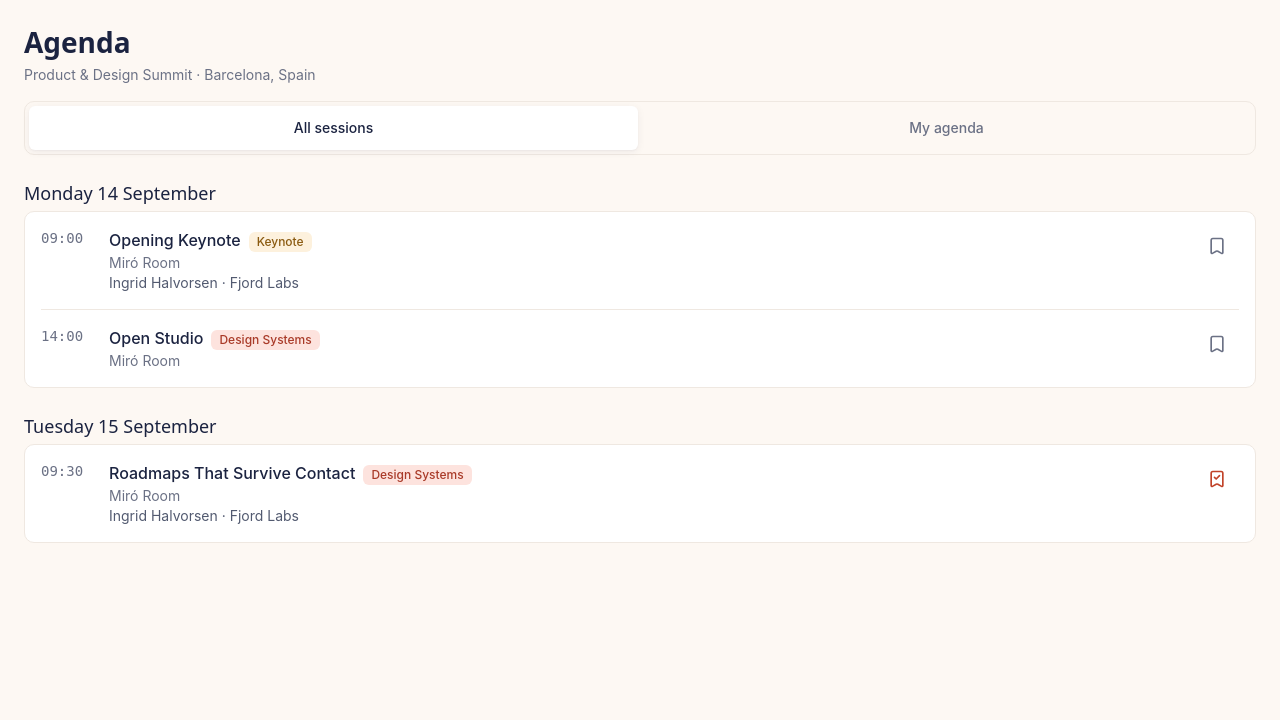
Test: the Agenda filter › drops a venue day entirely when nothing in it is saved
expect the link "Opening Keynote" is shown: met, box [109,230,241,250]
Step 1. Click the radio button labelled "My agenda" → (946, 128), box [909,119,984,136]
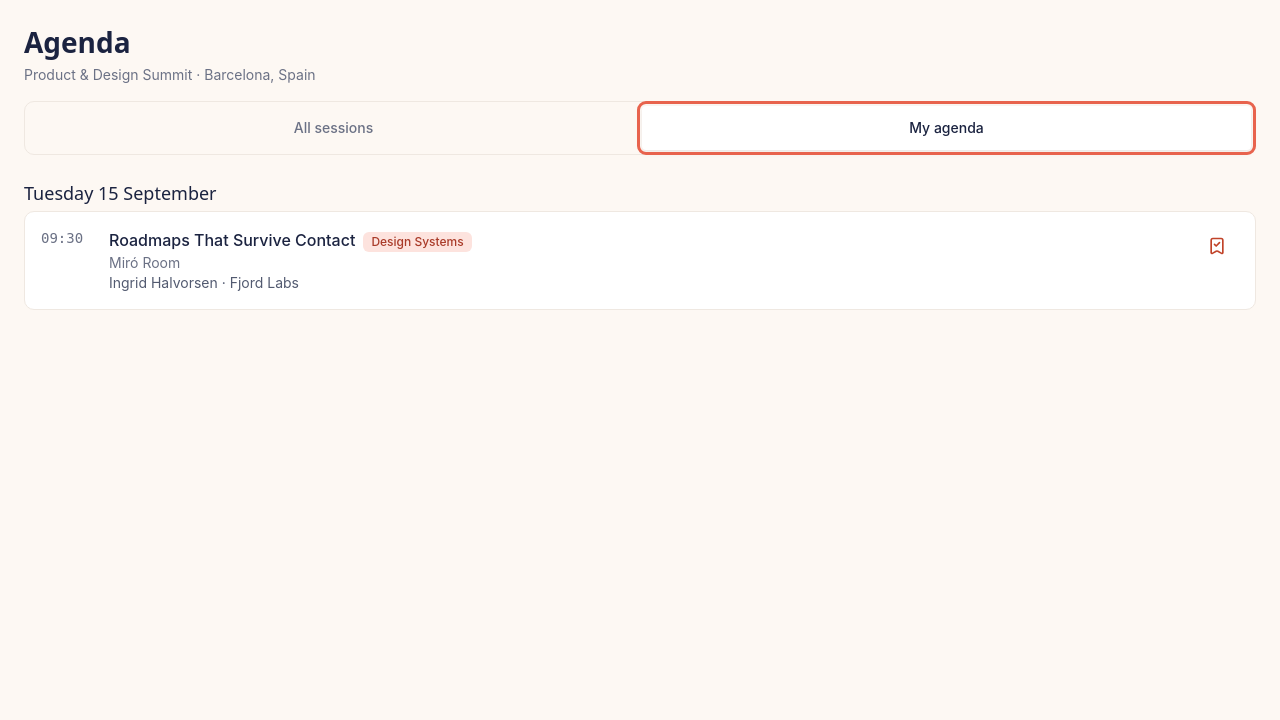
expect the element "Tuesday 15 September" is shown: met, box [24,179,1256,310]
expect the heading "Monday 14 September" is gone: met
